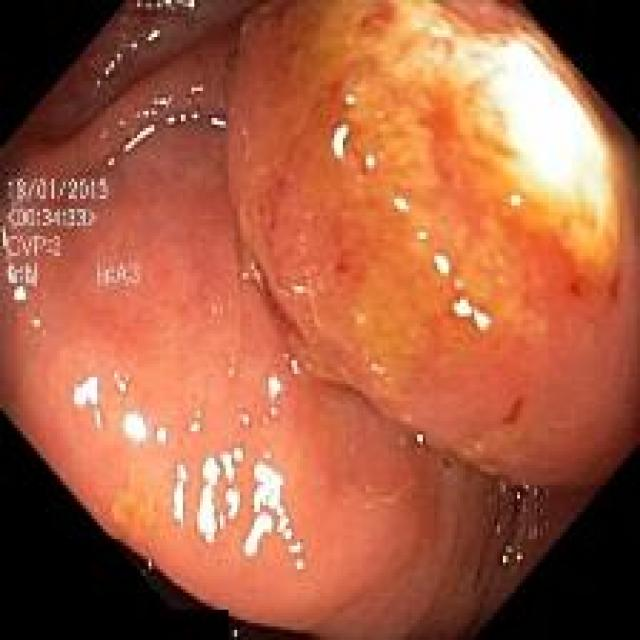Polyps: (230, 3, 640, 489)
